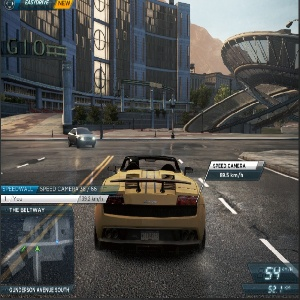tree: (191, 81, 212, 126)
vehicle: (67, 124, 98, 150)
